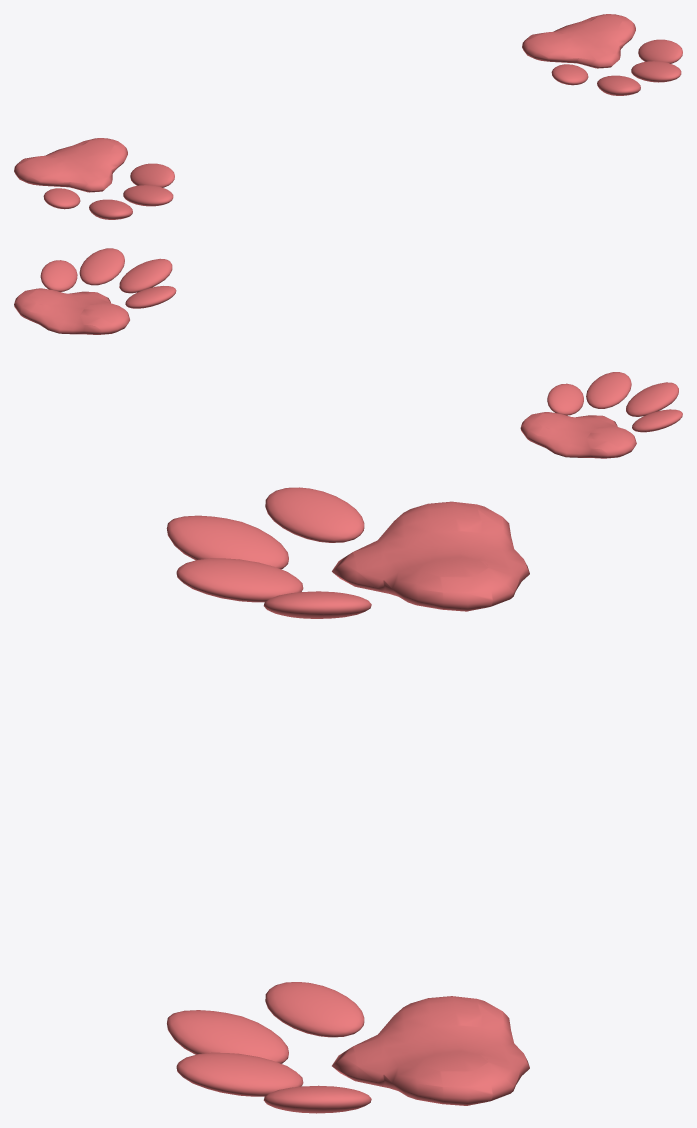
File: dawg front beans.fbx
3 renders of one model, top to bottom at view 1: azimuth 30°, elevation 25°; view 2: azimuth 150°, elevation 25°; view 3: azimuth 270°, elevation 25°, orthographic. The views are drawn at different scales.
Parts seen in each view (by area): view 1: frnt dawg.003, frnt dawg.002; view 2: frnt dawg.002, frnt dawg.003; view 3: frnt dawg.003, frnt dawg.002.
Boxes of the visible parts, x1,y1,x2,y2 form: frnt dawg.003: [14, 138, 174, 219]; frnt dawg.002: [522, 14, 682, 95]; frnt dawg.002: [14, 248, 176, 334]; frnt dawg.003: [520, 372, 682, 458]; frnt dawg.003: [166, 487, 529, 618]; frnt dawg.002: [167, 982, 529, 1113].
Size of the model in its own units: 11.62 by 0.3839 by 2.9.
